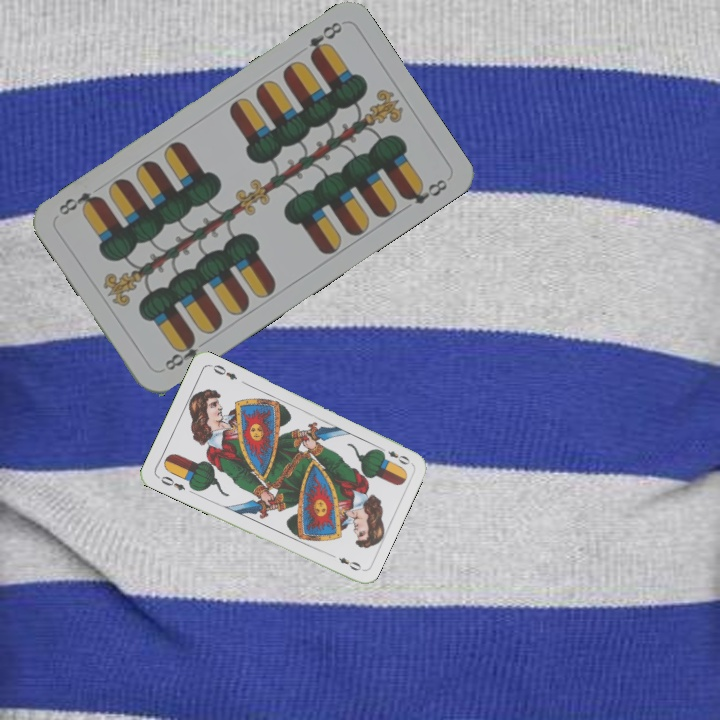E8: (160, 333, 210, 373), (305, 17, 345, 61)
EO: (375, 444, 413, 467), (157, 472, 188, 493)
